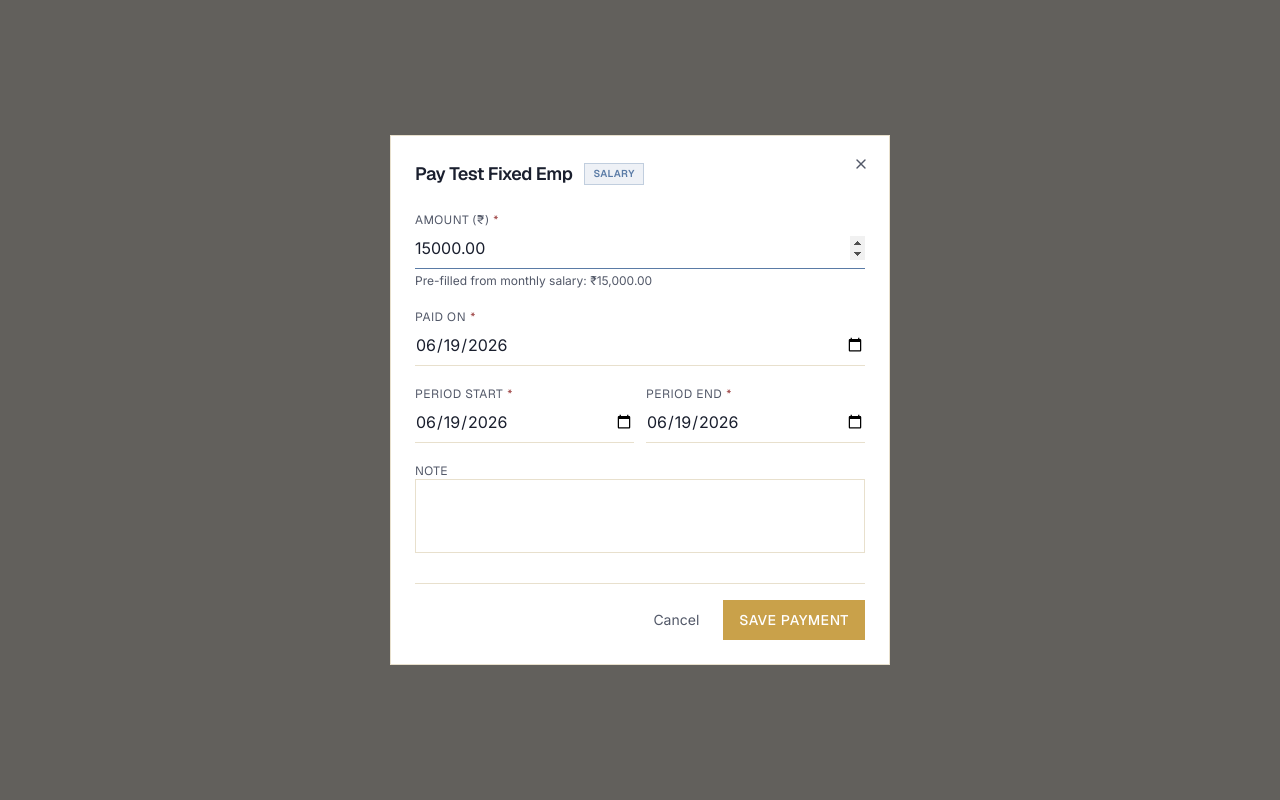
EmployeePaymentModal › surfaces server-side field errors
Step 1. Click the button with test id "employee-payment-save" → (794, 620), box [723,600,865,640]
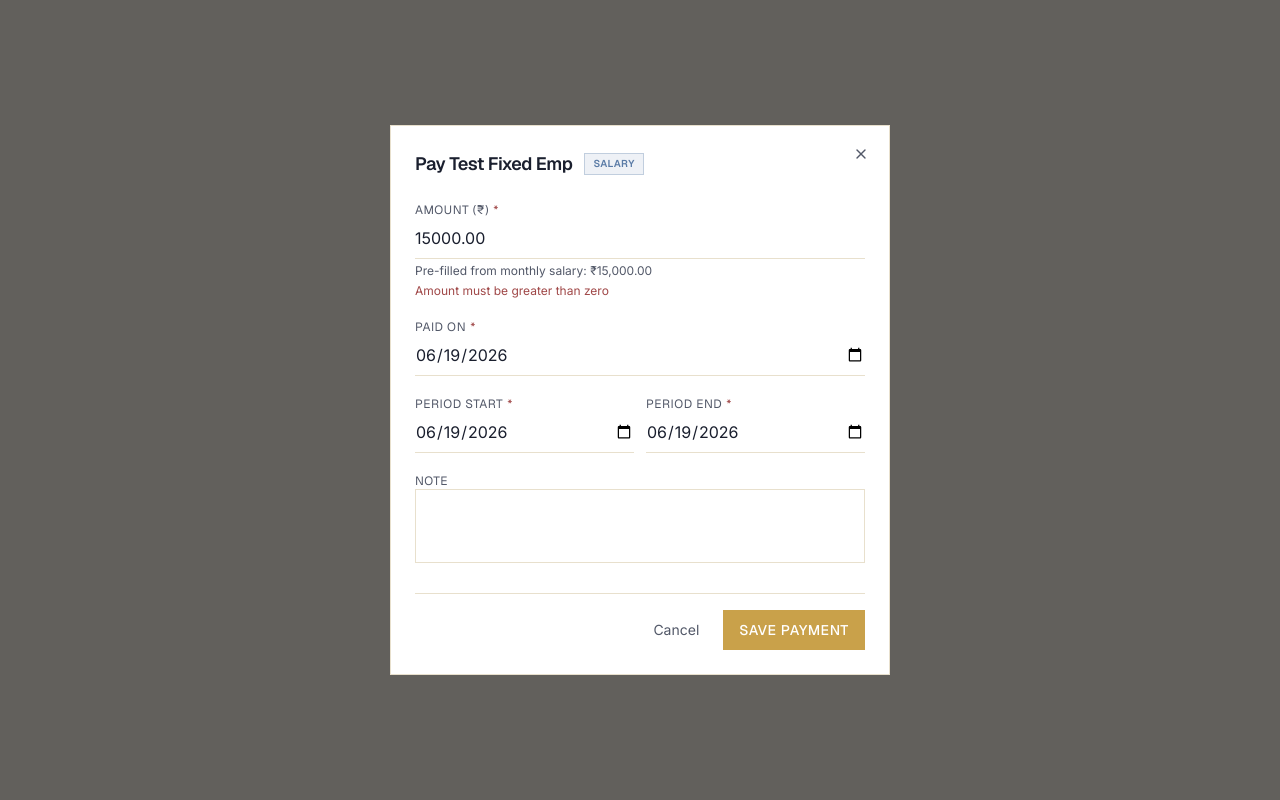
Result: the text "Amount must be greater than zero" is shown at [415,283,609,298]
